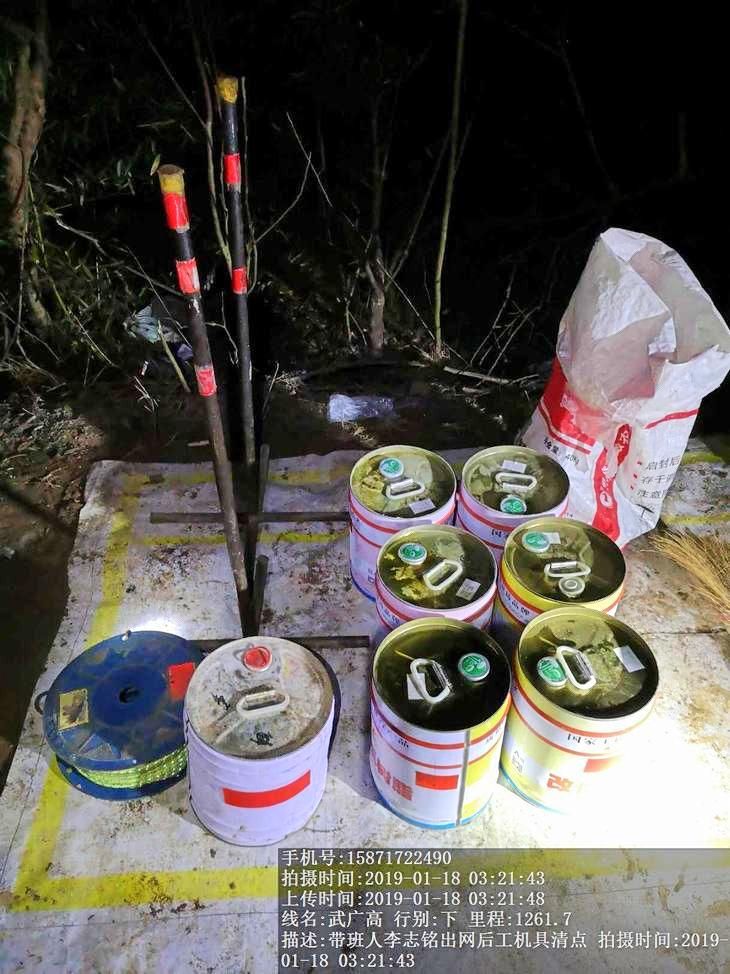BZD: (534, 226, 723, 538)
